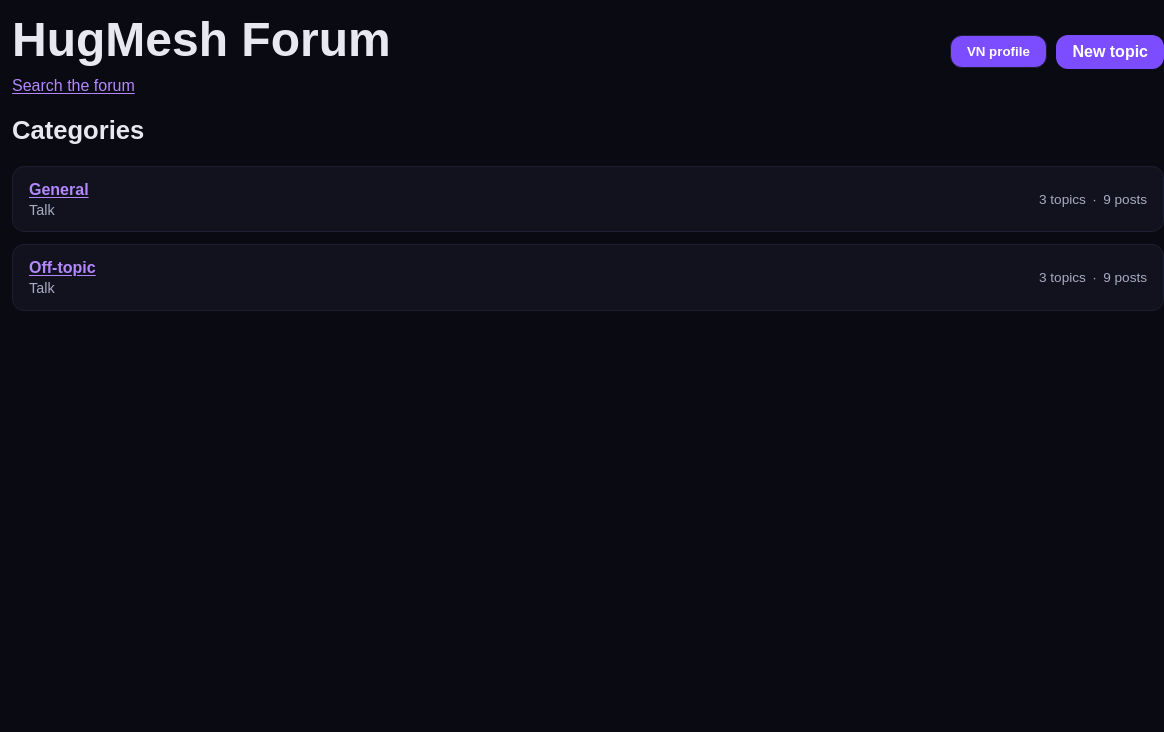
it: ForumIndexComponent › shows the VN profile toggle for a logged-in caller and opens the editor panel
Click the button with test id "vn-profile-toggle": (998, 52) [950,35,1047,68]
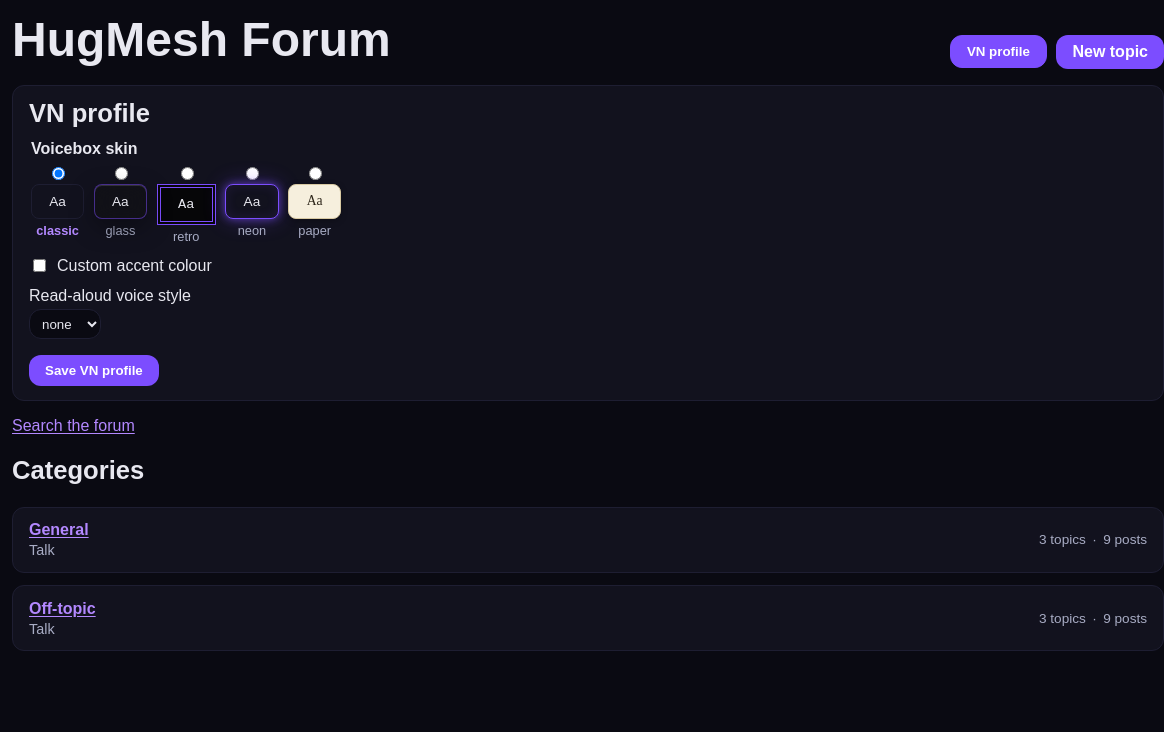
Now the element with test id "vn-editor" is shown, box [12,84,1163,401]
